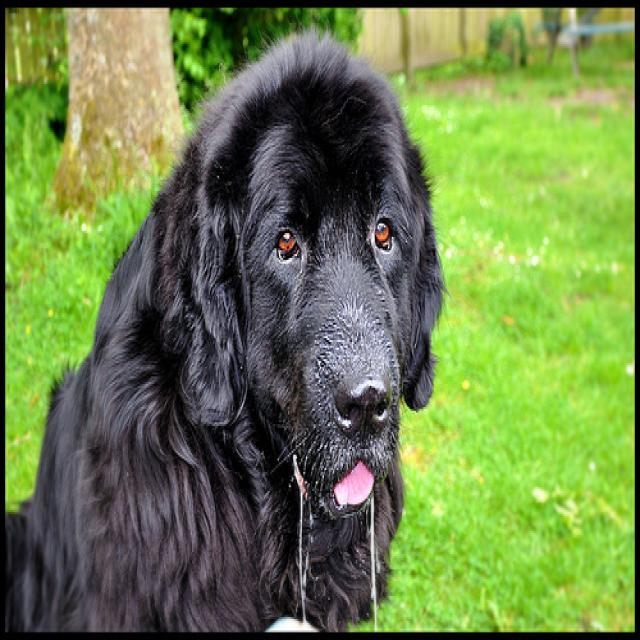dog-newfoundland: (1, 19, 456, 636)
